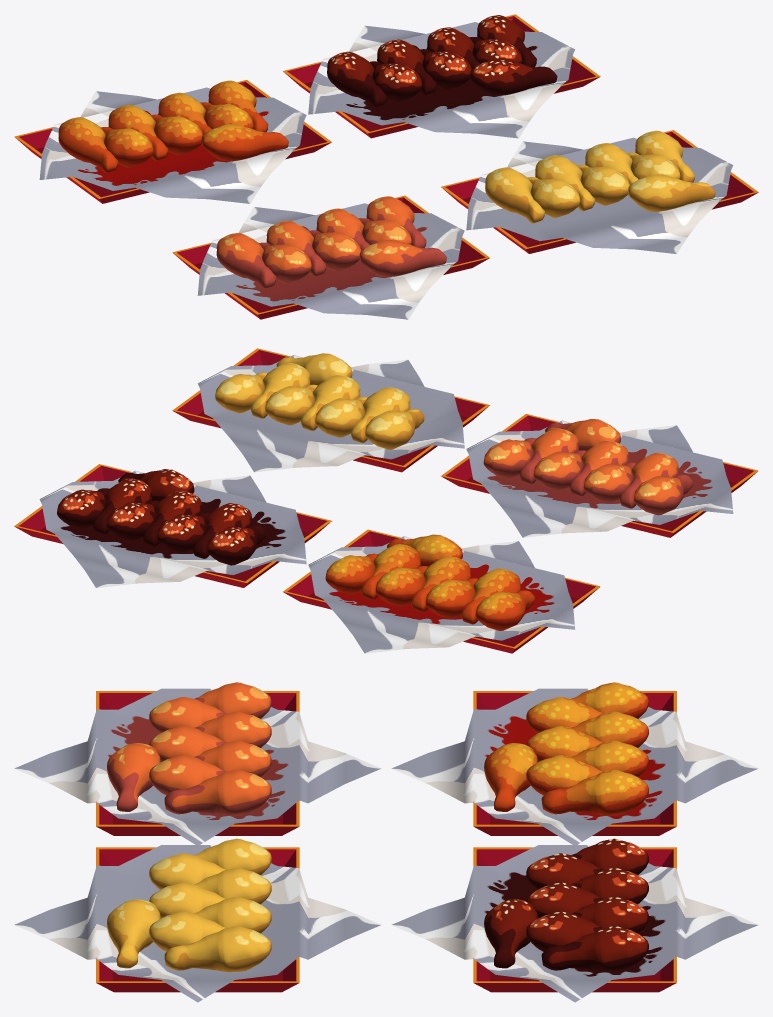
The model's file is maya2sketchfab.fbx.
The picture shows the model from 3 angles, top to bottom: view 1: azimuth 30°, elevation 25°; view 2: azimuth 150°, elevation 25°; view 3: azimuth 270°, elevation 25°; orthographic projection. The views are drawn at different scales.
Parts seen in each view (by area): view 1: Wings_Dry, Wings_Sauce, Wings_Breaded, Wings_Sesame_Jack; view 2: Wings_Breaded, Wings_Sesame_Jack, Wings_Sauce, Wings_Dry; view 3: Wings_Dry, Wings_Sesame_Jack, Wings_Sauce, Wings_Breaded.
Boxes of the visible parts, x1,y1,x2,y2 form: Wings_Dry: (441,130,758,254); Wings_Sauce: (172,195,489,319); Wings_Breaded: (14,80,331,203); Wings_Sesame_Jack: (283,14,600,138); Wings_Breaded: (283,529,600,653); Wings_Sesame_Jack: (14,464,331,588); Wings_Sauce: (441,414,758,537); Wings_Dry: (172,348,489,472); Wings_Dry: (14,838,381,1002); Wings_Sesame_Jack: (391,838,758,1002); Wings_Sauce: (14,682,381,844); Wings_Breaded: (391,682,758,844).
Size of the model in its own units: 102 by 6.87 by 103.
9 materials, 9 textured.
